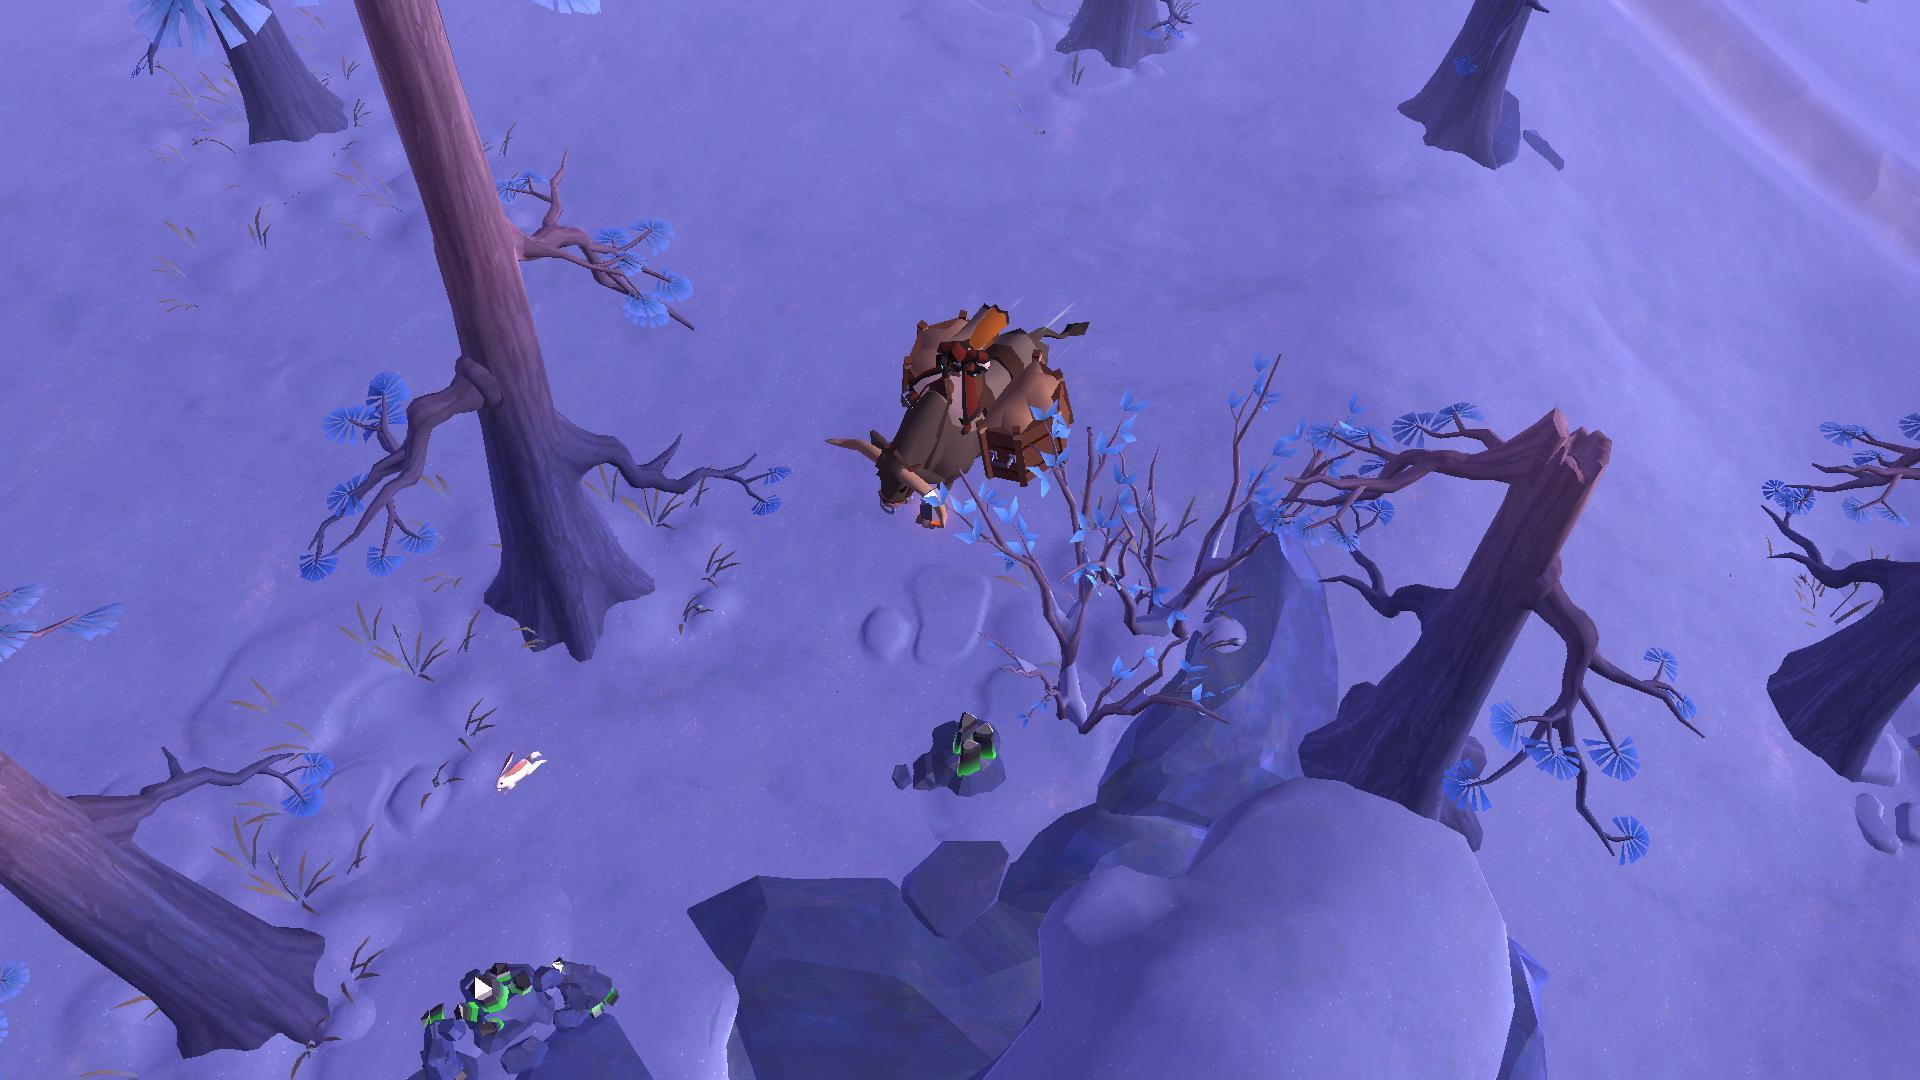ore_t3: (948, 705, 997, 781)
